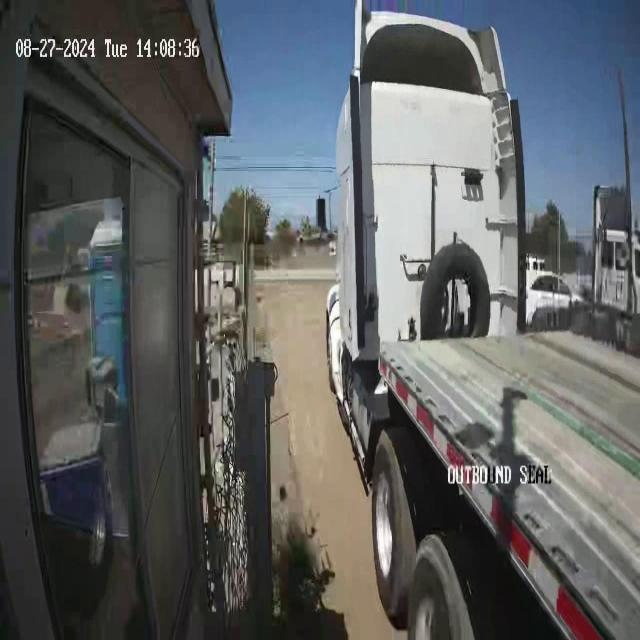TRUCK_OUT: (326, 5, 639, 638)
